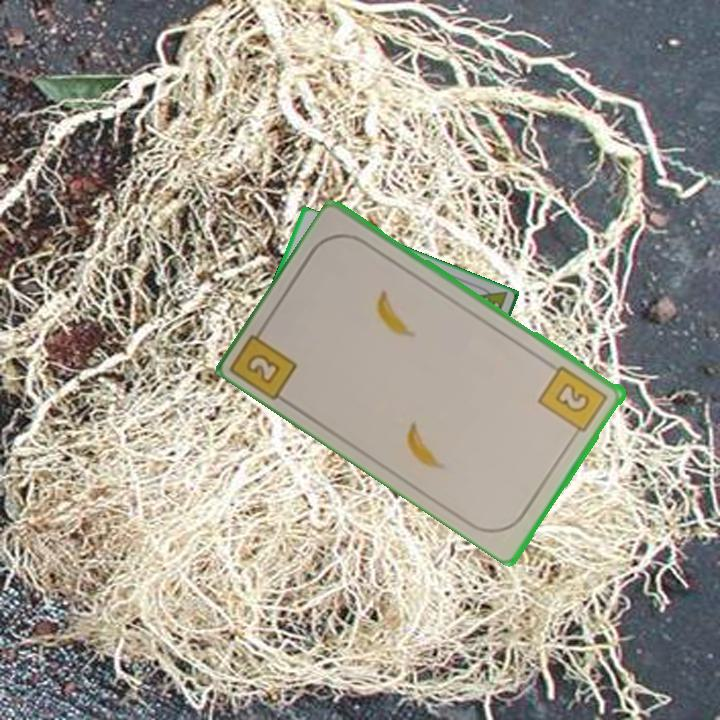2b: (230, 318, 301, 403), (535, 362, 611, 440)
